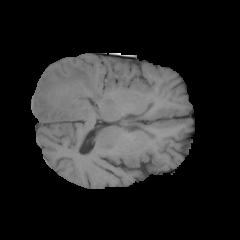glioma: (35, 60, 105, 121)
